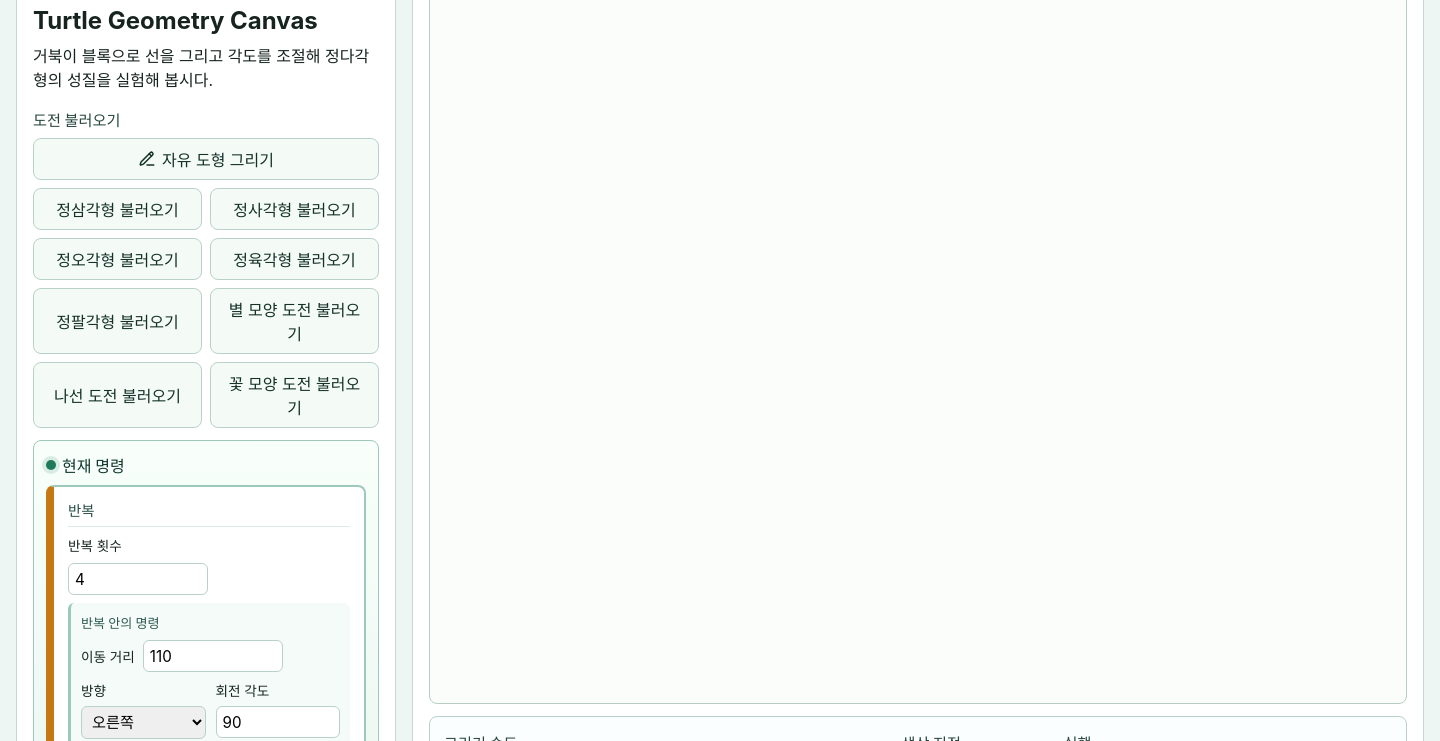
Scenario: App › keeps previous result until run is clicked again after command edits
This screenshot has width=1440, height=741.
Click the button "정사각형 불러오기" at (294, 209), box [210,188,379,230]
(page scrolled)
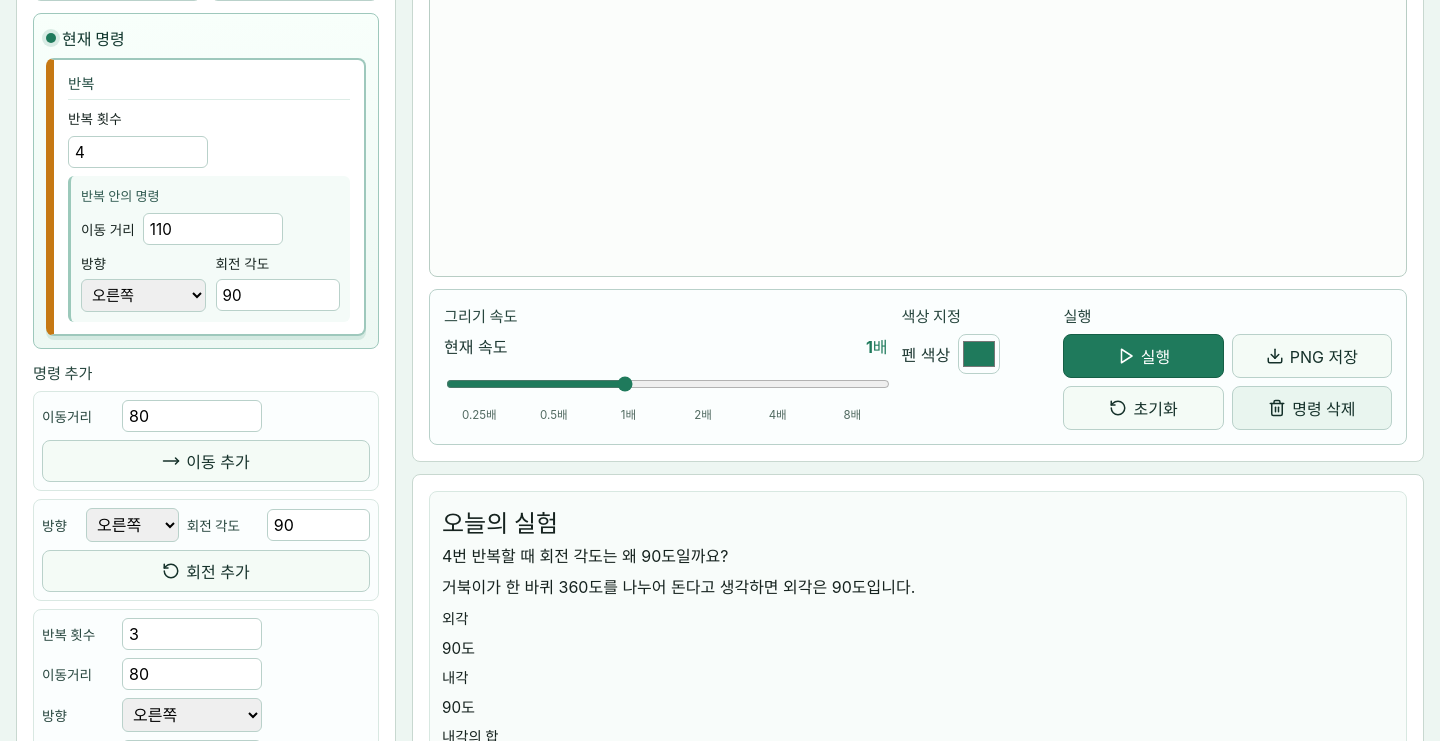
Click the button "실행" at (1144, 356), box [1063,334,1224,378]
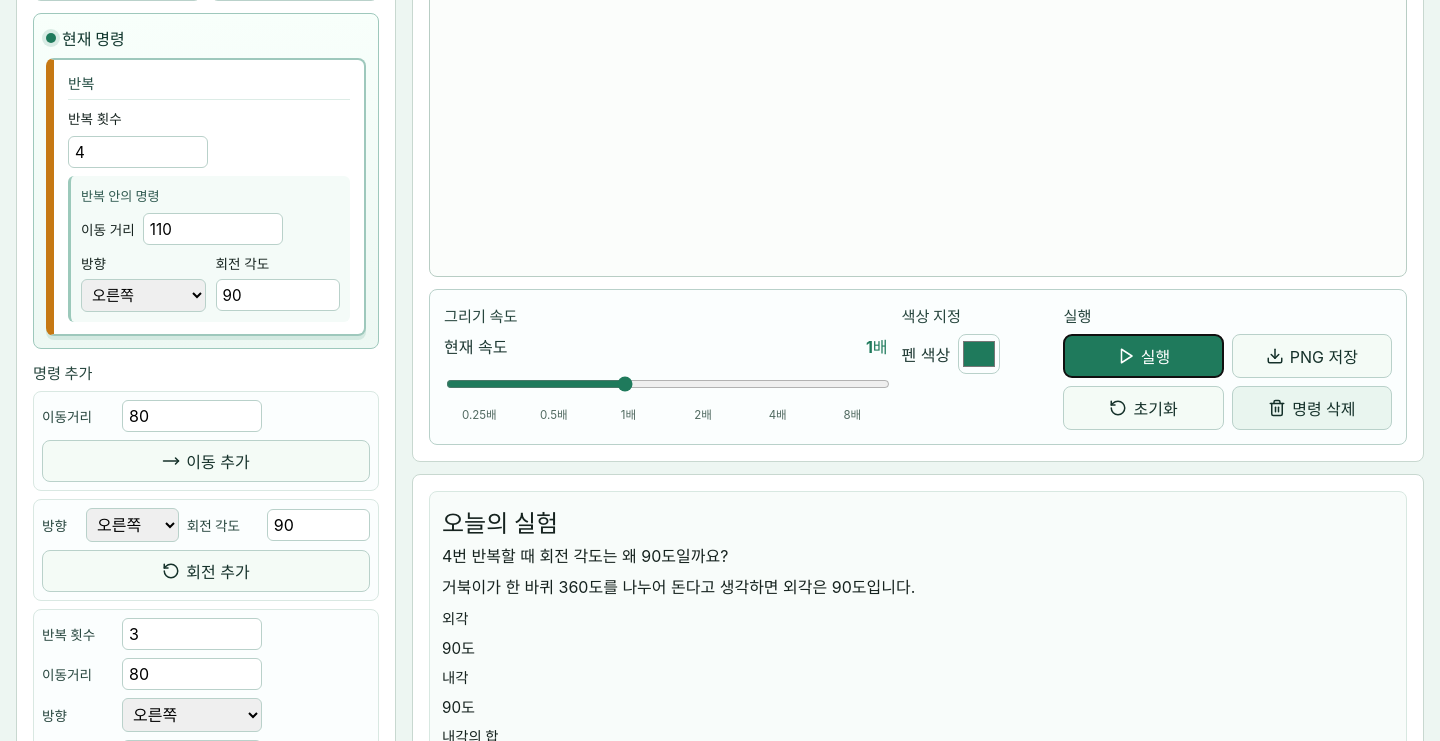
Click the button "이동 추가" at (206, 461), box [42,440,370,482]
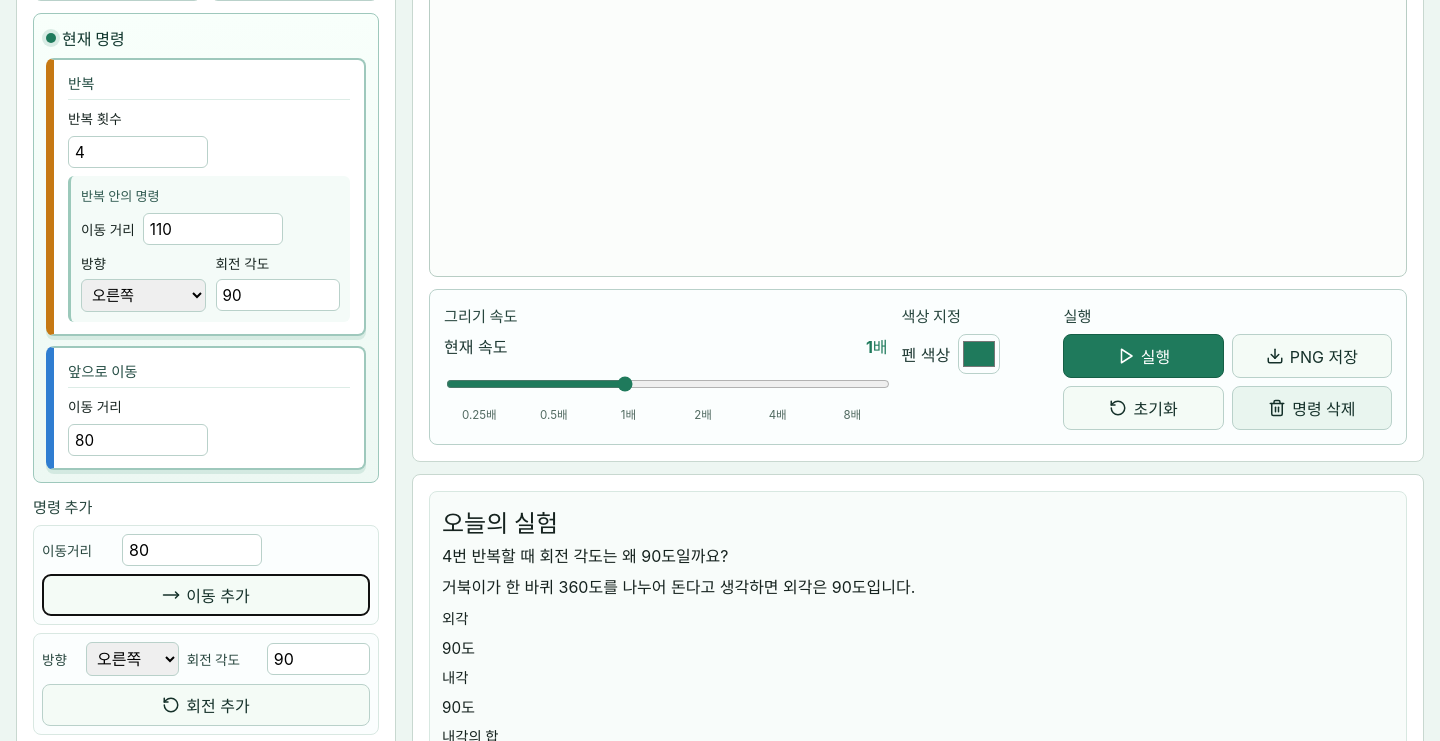
Click the button "실행" at (1144, 356), box [1063,334,1224,378]
(page scrolled)
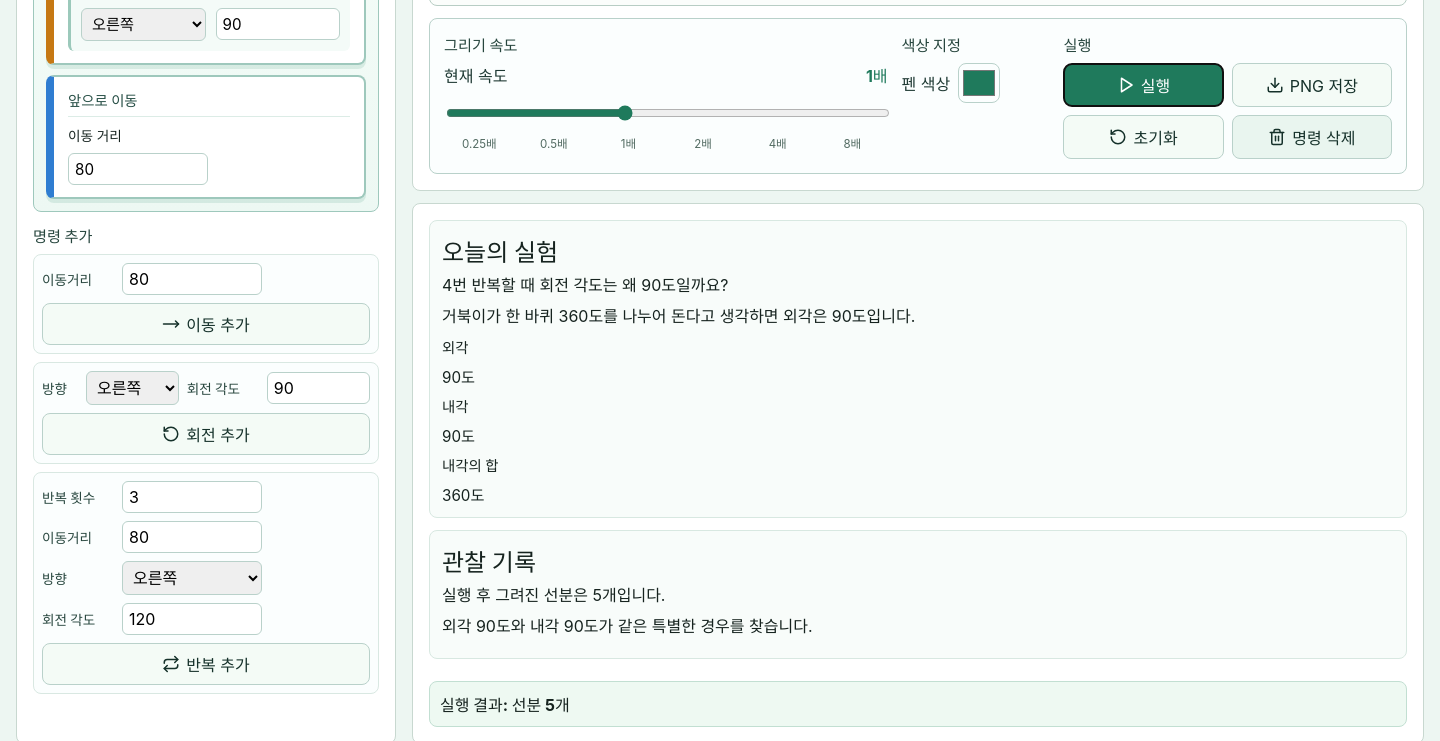
Expected: the message reads "실행 결과: 선분 5개", [429,681,1407,727]
